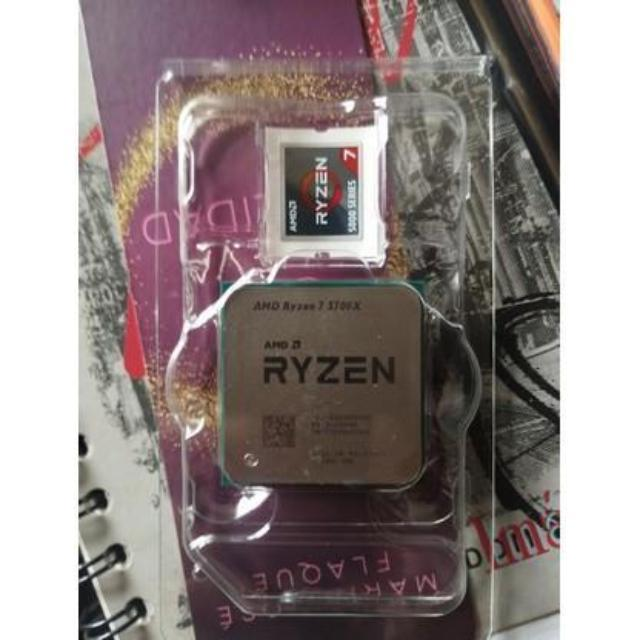CPU: (218, 284, 428, 490)
